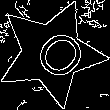O_SW: (18, 20, 85, 87)
